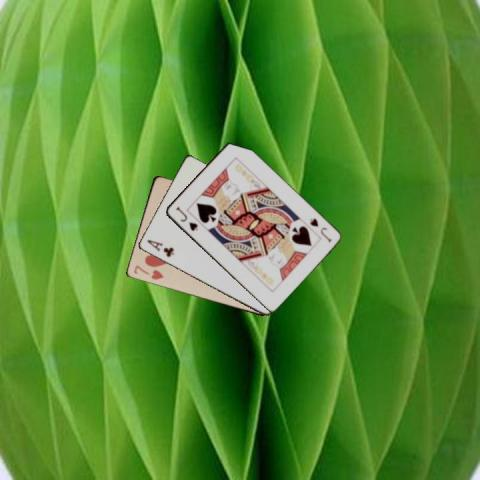7h: (131, 262, 164, 281)
Ac: (144, 236, 175, 258)
Js: (172, 203, 199, 232), (306, 215, 332, 244)
